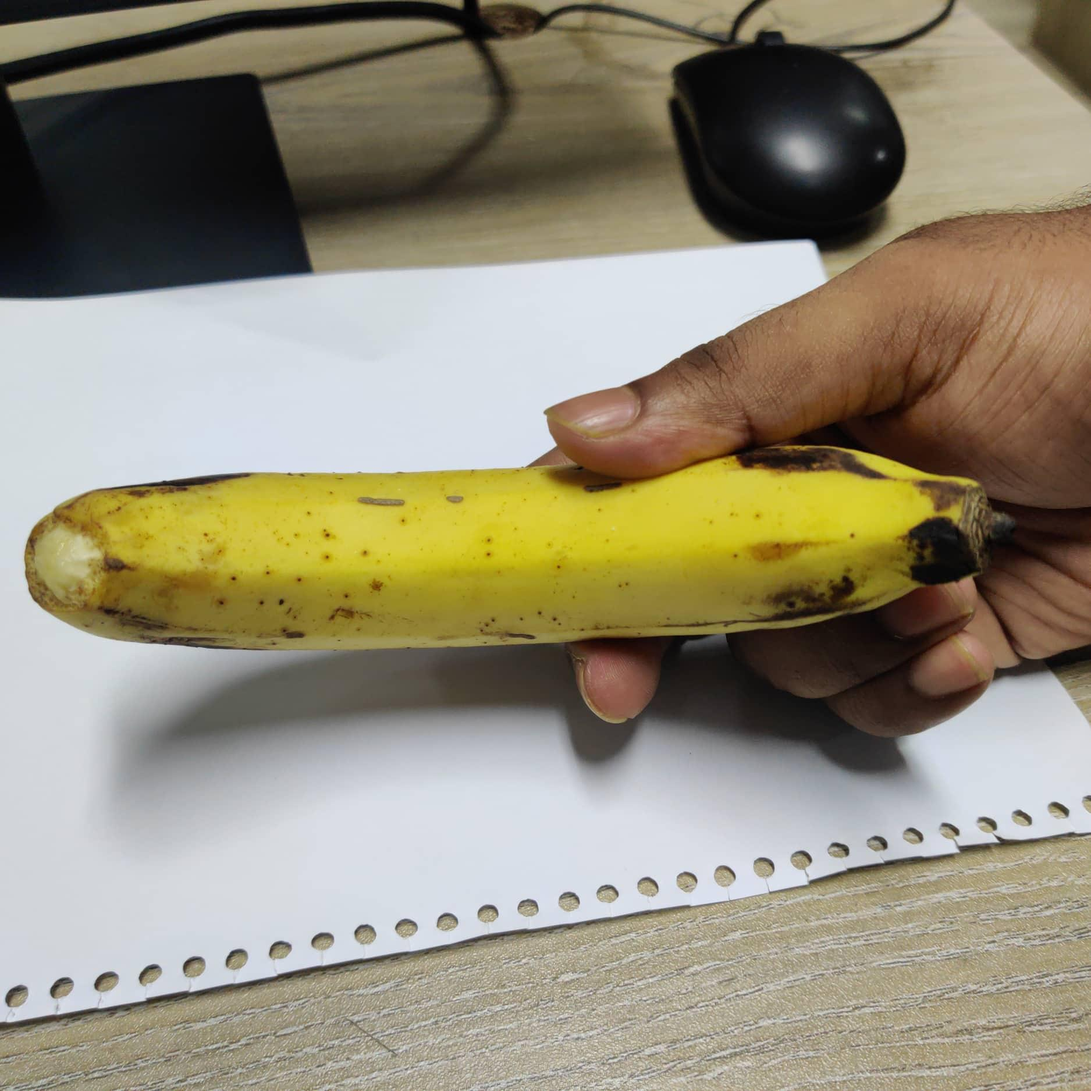Banana Ripe: (43, 412, 1021, 761)
